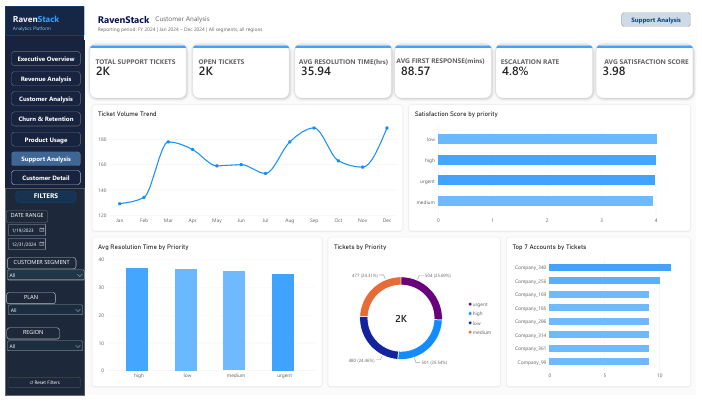

The dashboard page shown, as its layout file describes it:
{"tool":"powerbi","page":{"name":"Support Analysis","canvas":[1920,1080],"ordinal":5},"visuals":[{"type":"shape","box":[0,-8,220,1088],"z":0},{"type":"group","id":"g1","title":"Group 4","box":[224,96,288,160],"z":0,"group":"g7"},{"type":"shape","box":[224,96,288,168],"z":0,"group":"g14"},{"type":"shape","box":[510,96,288,168],"z":0,"group":"g15"},{"type":"shape","box":[794,96,288,168],"z":0,"group":"g16"},{"type":"shape","box":[1072,96,288,168],"z":0,"group":"g17"},{"type":"shape","box":[1353,96,288,168],"z":0,"group":"g18"},{"type":"shape","box":[1632,96,288,168],"z":0,"group":"g19"},{"type":"slicer","fields":{"Values":["public accounts.industry"]},"box":[0,726,224,48],"z":0,"group":"g27"},{"type":"slicer","fields":{"Values":["public accounts.plan_tier"]},"box":[3,823,216,48],"z":0,"group":"g28"},{"type":"slicer","fields":{"Values":["public accounts.country"]},"box":[0,923,219,48],"z":0,"group":"g29"},{"type":"textbox","box":[0,0,224,80],"z":1000},{"type":"group","id":"g2","title":"Group 4","box":[510,96,288,168],"z":1000,"group":"g7"},{"type":"textbox","box":[4,697,192,32],"z":1000,"group":"g27"},{"type":"textbox","box":[2,794,137,32],"z":1000,"group":"g28"},{"type":"textbox","box":[3,892,147,32],"z":1000,"group":"g29"},{"type":"textbox","box":[0,32,224,48],"z":2000},{"type":"group","id":"g3","title":"Group 4","box":[794,96,293,168],"z":2000,"group":"g7"},{"type":"group","id":"g4","title":"Group 4","box":[1072,96,288,168],"z":3000,"group":"g7"},{"type":"actionButton","box":[16,124,192,40],"z":3000,"group":"g26"},{"type":"group","id":"g5","title":"Group 4","box":[1353,96,288,168],"z":4000,"group":"g7"},{"type":"actionButton","box":[16,180,192,40],"z":4000,"group":"g26"},{"type":"group","id":"g6","title":"Group 4","box":[1632,96,288,168],"z":5000,"group":"g7"},{"type":"actionButton","box":[16,235,192,40],"z":5000,"group":"g26"},{"type":"actionButton","box":[16,292,192,40],"z":7000,"group":"g26"},{"type":"actionButton","box":[16,348,192,40],"z":8000,"group":"g26"},{"type":"actionButton","box":[16,403,192,40],"z":9000,"group":"g26"},{"type":"shape","box":[219,0,1701,93],"z":10000},{"type":"actionButton","box":[16,455,192,40],"z":10000,"group":"g26"},{"type":"textbox","box":[256,16,144,64],"z":11000},{"type":"textbox","box":[416,21,240,48],"z":12000},{"type":"textbox","box":[256,54,784,32],"z":13000},{"type":"group","id":"g7","title":"Group 5","box":[224,96,1696,168],"z":14000},{"type":"cardVisual","fields":{"Data":["DimDate._CF Total Support Tickets"]},"box":[235.5,107.6,266.1,134.4],"z":14001,"group":"g14"},{"type":"cardVisual","fields":{"Data":["DimDate._CF Open Tickets"]},"box":[521.5,107.6,266.1,134.4],"z":14001,"group":"g15"},{"type":"cardVisual","fields":{"Data":["DimDate._CF Avg Resolution Time Hrs"]},"box":[805.5,107.6,266.1,134.4],"z":14001,"group":"g16"},{"type":"cardVisual","fields":{"Data":["DimDate._CF Avg First Response Mins"]},"box":[1083.5,107.6,266.1,134.4],"z":14001,"group":"g17"},{"type":"cardVisual","fields":{"Data":["DimDate._CF Escalation Rate"]},"box":[1364.5,107.6,266.1,134.4],"z":14001,"group":"g18"},{"type":"cardVisual","fields":{"Data":["DimDate._CF Avg Satisfaction Score"]},"box":[1643.5,107.6,266.1,134.4],"z":14001,"group":"g19"},{"type":"group","id":"g8","title":"Group 2","box":[224,96,288,168],"z":14011,"group":"g20"},{"type":"group","id":"g9","title":"Group 2","box":[510,96,288,168],"z":14011,"group":"g21"},{"type":"group","id":"g10","title":"Group 2","box":[794,96,288,168],"z":14011,"group":"g22"},{"type":"group","id":"g11","title":"Group 2","box":[1072,96,288,168],"z":14011,"group":"g23"},{"type":"group","id":"g12","title":"Group 2","box":[1353,96,288,168],"z":14011,"group":"g24"},{"type":"group","id":"g13","title":"Group 2","box":[1632,96,288,168],"z":14011,"group":"g25"},{"type":"group","id":"g14","title":"Group 3","box":[224,96,288,168],"z":14012,"group":"g8"},{"type":"group","id":"g15","title":"Group 3","box":[510,96,288,168],"z":14012,"group":"g9"},{"type":"group","id":"g16","title":"Group 3","box":[794,96,288,168],"z":14012,"group":"g10"},{"type":"group","id":"g17","title":"Group 3","box":[1072,96,288,168],"z":14012,"group":"g11"},{"type":"group","id":"g18","title":"Group 3","box":[1353,96,288,168],"z":14012,"group":"g12"},{"type":"group","id":"g19","title":"Group 3","box":[1632,96,288,168],"z":14012,"group":"g13"},{"type":"donutChart","title":"Tickets by Priority","fields":{"Category":["public support_tickets.priority"],"Y":["DimDate._CF Total Support Tickets"]},"box":[896,640,480,416],"z":15000},{"type":"clusteredColumnChart","title":" Avg Resolution Time by Priority","fields":{"Category":["public support_tickets.priority"],"Y":["DimDate._CF Avg Resolution Time Hrs"]},"box":[240,640,640,416],"z":16000},{"type":"lineChart","title":"Ticket Volume Trend","fields":{"Category":["DimDate.Month"],"Y":["DimDate._CF Total Support Tickets"]},"box":[240,272,864,352],"z":17000},{"type":"clusteredBarChart","title":"Satisfaction Score by priority","fields":{"Y":["DimDate._CF Avg Satisfaction Score"],"Category":["public support_tickets.priority"]},"box":[1120,272,784,352],"z":18000},{"type":"group","id":"g20","title":"Group 1","box":[224,96,288,160],"z":19000,"group":"g1"},{"type":"group","id":"g21","title":"Group 1","box":[510,96,288,168],"z":19000,"group":"g2"},{"type":"group","id":"g22","title":"Group 1","box":[794,96,288,168],"z":19000,"group":"g3"},{"type":"group","id":"g23","title":"Group 1","box":[1072,96,288,168],"z":19000,"group":"g4"},{"type":"group","id":"g24","title":"Group 1","box":[1353,96,288,168],"z":19000,"group":"g5"},{"type":"group","id":"g25","title":"Group 1","box":[1632,96,288,168],"z":19000,"group":"g6"},{"type":"clusteredBarChart","title":"Top 7 Accounts by Tickets","fields":{"Category":["public accounts.account_name"],"Y":["DimDate._CF Total Support Tickets"]},"box":[1392,640,512,416],"z":19000},{"type":"group","id":"g26","title":"Group 6","box":[0,124,224,956],"z":19001},{"type":"actionButton","box":[1712,16,192,40],"z":19002},{"type":"shape","box":[0,0,219,80],"z":19003},{"type":"shape","box":[0,504,220,576],"z":21000,"group":"g26"},{"type":"textbox","box":[28,512,168,32],"z":22000,"group":"g26"},{"type":"slicer","fields":{"Values":["DimDate.Date"]},"box":[0,600,222,77],"z":23000,"group":"g26"},{"type":"textbox","box":[3,567,113,32],"z":24000,"group":"g26"},{"type":"group","id":"g27","title":"Group 5","box":[0,697,224,77],"z":25000,"group":"g26"},{"type":"group","id":"g28","title":"Group 5","box":[2,794,217,77],"z":26000,"group":"g26"},{"type":"textbox","box":[1086,137,272,48],"z":27000,"group":"g4"},{"type":"textbox","box":[250,138,240,48],"z":27000,"group":"g1"},{"type":"textbox","box":[536,138,224,48],"z":27000,"group":"g2"},{"type":"textbox","box":[815,138,272,48],"z":27000,"group":"g3"},{"type":"textbox","box":[1376,138,224,48],"z":27000,"group":"g5"},{"type":"textbox","box":[1664,138,256,48],"z":27000,"group":"g6"},{"type":"group","id":"g29","title":"Group 5","box":[0,892,219,79],"z":27000,"group":"g26"},{"type":"actionButton","box":[0,1020,217,48],"z":28000,"group":"g26"}]}

Visuals, with their boxes on the page's 1920x1080 design canvas (x1, y1, x2, y2). These are canvas units, not pixel positions in the 702x402 screenshot, which may show the page scaled, cropped or inside an application window:
shape: select_region(0, -8, 220, 1080)
"Group 4" group: select_region(224, 96, 512, 256)
shape: select_region(224, 96, 512, 264)
shape: select_region(510, 96, 798, 264)
shape: select_region(794, 96, 1082, 264)
shape: select_region(1072, 96, 1360, 264)
shape: select_region(1353, 96, 1641, 264)
shape: select_region(1632, 96, 1920, 264)
slicer - public accounts.industry: select_region(0, 726, 224, 774)
slicer - public accounts.plan_tier: select_region(3, 823, 219, 871)
slicer - public accounts.country: select_region(0, 923, 219, 971)
textbox: select_region(0, 0, 224, 80)
"Group 4" group: select_region(510, 96, 798, 264)
textbox: select_region(4, 697, 196, 729)
textbox: select_region(2, 794, 139, 826)
textbox: select_region(3, 892, 150, 924)
textbox: select_region(0, 32, 224, 80)
"Group 4" group: select_region(794, 96, 1087, 264)
"Group 4" group: select_region(1072, 96, 1360, 264)
actionButton: select_region(16, 124, 208, 164)
"Group 4" group: select_region(1353, 96, 1641, 264)
actionButton: select_region(16, 180, 208, 220)
"Group 4" group: select_region(1632, 96, 1920, 264)
actionButton: select_region(16, 235, 208, 275)
actionButton: select_region(16, 292, 208, 332)
actionButton: select_region(16, 348, 208, 388)
actionButton: select_region(16, 403, 208, 443)
shape: select_region(219, 0, 1920, 93)
actionButton: select_region(16, 455, 208, 495)
textbox: select_region(256, 16, 400, 80)
textbox: select_region(416, 21, 656, 69)
textbox: select_region(256, 54, 1040, 86)
"Group 5" group: select_region(224, 96, 1920, 264)
cardVisual - DimDate._CF Total Support Tickets: select_region(236, 108, 502, 242)
cardVisual - DimDate._CF Open Tickets: select_region(522, 108, 788, 242)
cardVisual - DimDate._CF Avg Resolution Time Hrs: select_region(806, 108, 1072, 242)
cardVisual - DimDate._CF Avg First Response Mins: select_region(1084, 108, 1350, 242)
cardVisual - DimDate._CF Escalation Rate: select_region(1364, 108, 1631, 242)
cardVisual - DimDate._CF Avg Satisfaction Score: select_region(1644, 108, 1910, 242)
"Group 2" group: select_region(224, 96, 512, 264)
"Group 2" group: select_region(510, 96, 798, 264)
"Group 2" group: select_region(794, 96, 1082, 264)
"Group 2" group: select_region(1072, 96, 1360, 264)
"Group 2" group: select_region(1353, 96, 1641, 264)
"Group 2" group: select_region(1632, 96, 1920, 264)
"Group 3" group: select_region(224, 96, 512, 264)
"Group 3" group: select_region(510, 96, 798, 264)
"Group 3" group: select_region(794, 96, 1082, 264)
"Group 3" group: select_region(1072, 96, 1360, 264)
"Group 3" group: select_region(1353, 96, 1641, 264)
"Group 3" group: select_region(1632, 96, 1920, 264)
"Tickets by Priority" donutChart: select_region(896, 640, 1376, 1056)
" Avg Resolution Time by Priority" clusteredColumnChart: select_region(240, 640, 880, 1056)
"Ticket Volume Trend" lineChart: select_region(240, 272, 1104, 624)
"Satisfaction Score by priority" clusteredBarChart: select_region(1120, 272, 1904, 624)
"Group 1" group: select_region(224, 96, 512, 256)
"Group 1" group: select_region(510, 96, 798, 264)
"Group 1" group: select_region(794, 96, 1082, 264)
"Group 1" group: select_region(1072, 96, 1360, 264)
"Group 1" group: select_region(1353, 96, 1641, 264)
"Group 1" group: select_region(1632, 96, 1920, 264)
"Top 7 Accounts by Tickets" clusteredBarChart: select_region(1392, 640, 1904, 1056)
"Group 6" group: select_region(0, 124, 224, 1080)
actionButton: select_region(1712, 16, 1904, 56)
shape: select_region(0, 0, 219, 80)
shape: select_region(0, 504, 220, 1080)
textbox: select_region(28, 512, 196, 544)
slicer - DimDate.Date: select_region(0, 600, 222, 677)
textbox: select_region(3, 567, 116, 599)
"Group 5" group: select_region(0, 697, 224, 774)
"Group 5" group: select_region(2, 794, 219, 871)
textbox: select_region(1086, 137, 1358, 185)
textbox: select_region(250, 138, 490, 186)
textbox: select_region(536, 138, 760, 186)
textbox: select_region(815, 138, 1087, 186)
textbox: select_region(1376, 138, 1600, 186)
textbox: select_region(1664, 138, 1920, 186)
"Group 5" group: select_region(0, 892, 219, 971)
actionButton: select_region(0, 1020, 217, 1068)
